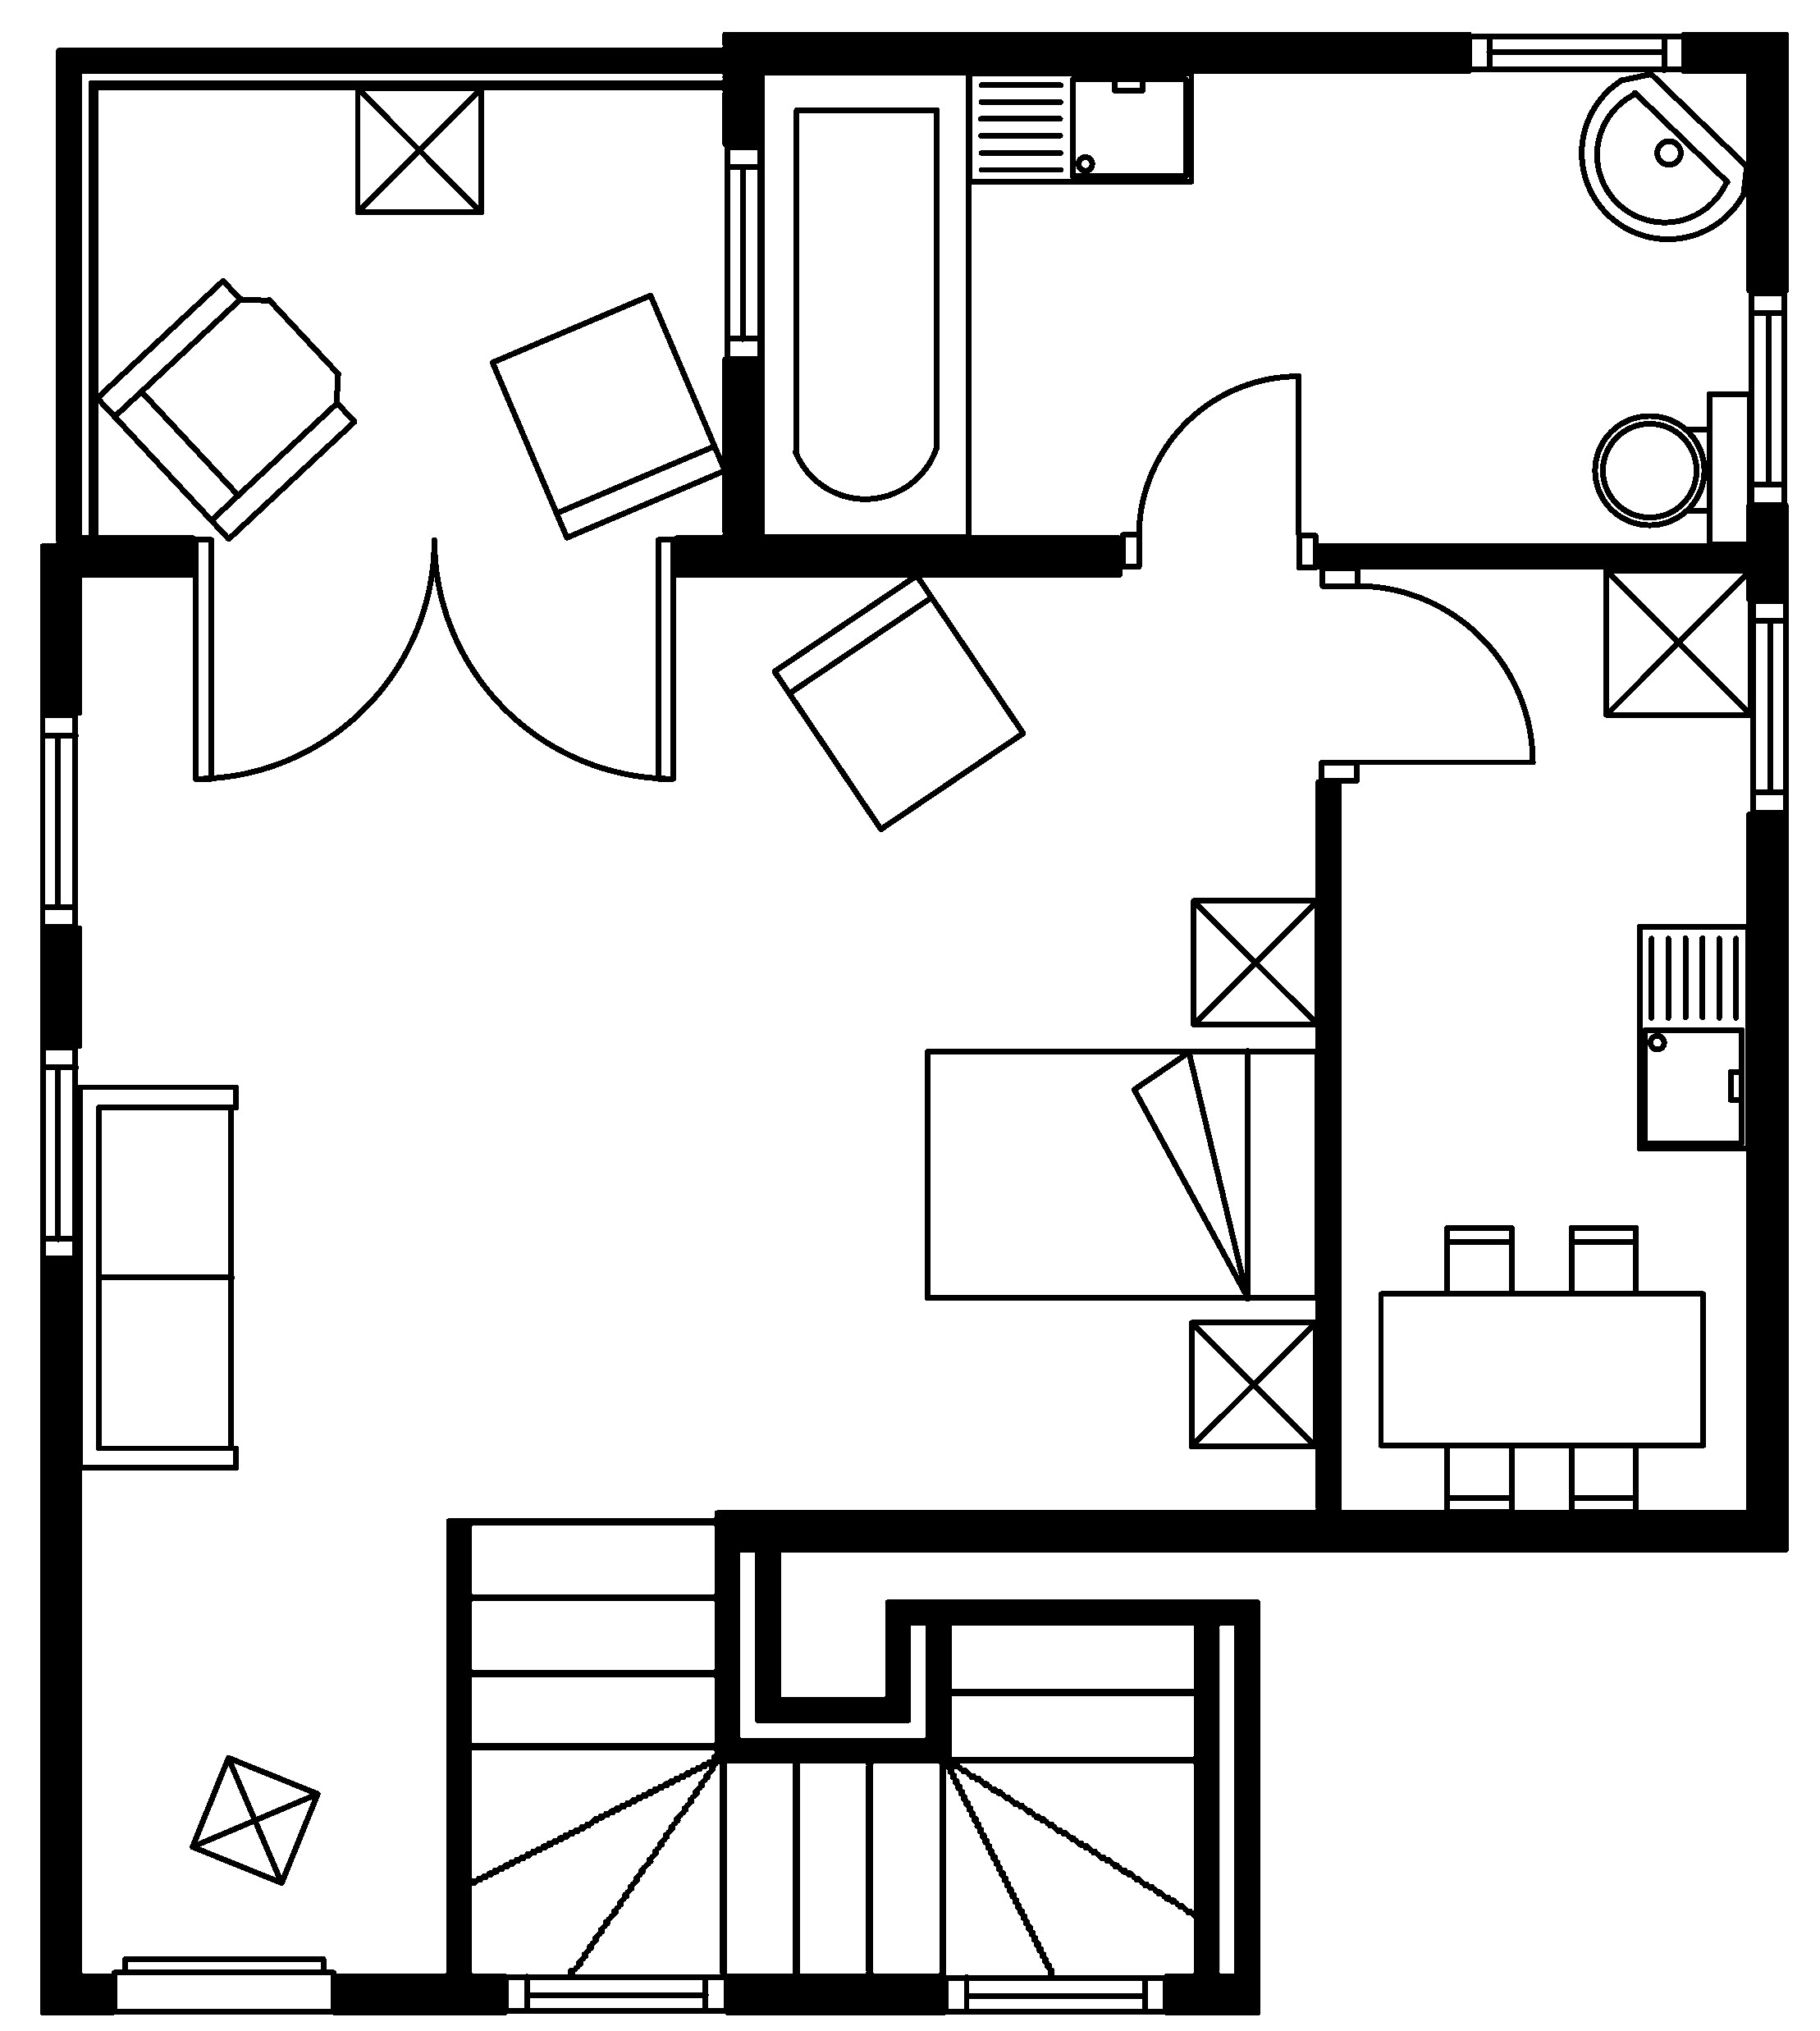armchair: (93, 276, 358, 543)
bed: (922, 1047, 1321, 1302)
coffee_table: (1602, 566, 1753, 719), (1186, 1318, 1319, 1449), (188, 1753, 321, 1885), (1189, 896, 1321, 1028), (353, 84, 485, 214)
dining_table: (1376, 1223, 1706, 1516)
large_sink: (1592, 388, 1753, 548)
large_sofa: (76, 1082, 239, 1471)
sink: (964, 69, 1195, 184), (1634, 922, 1750, 1151)
small_sink: (1578, 70, 1750, 241)
small_sofa: (769, 571, 1026, 833), (488, 290, 727, 541)
tub: (757, 69, 971, 539)
